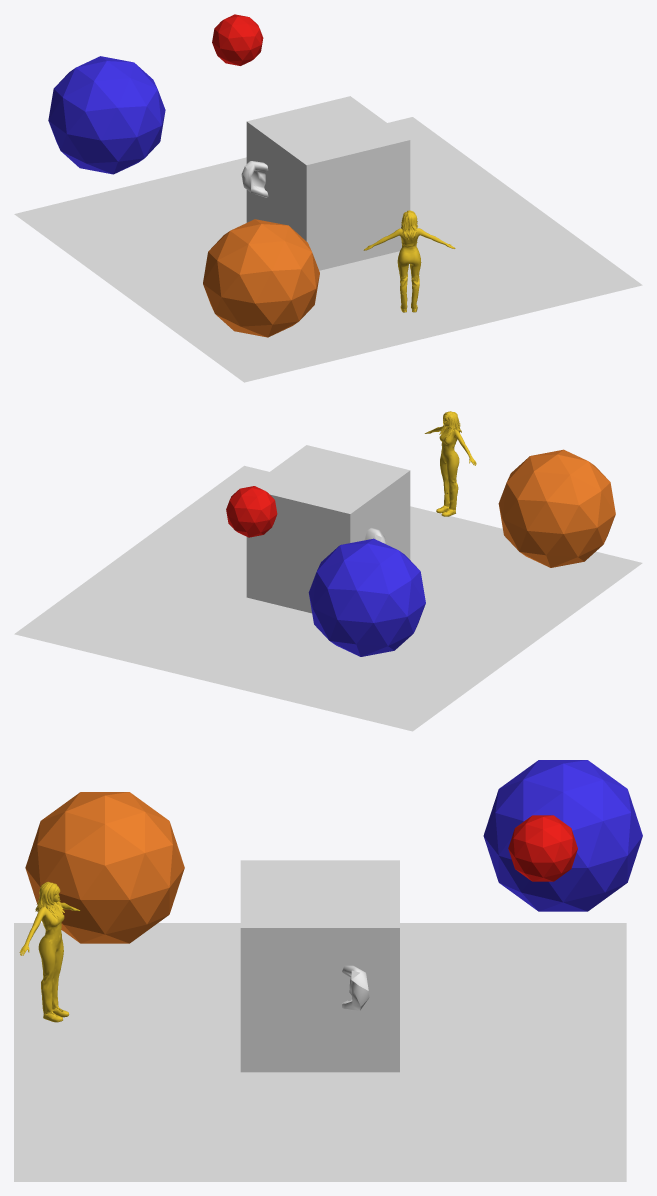
3 views of the same model, one above another, from view 1: azimuth 30°, elevation 25°; view 2: azimuth 150°, elevation 25°; view 3: azimuth 270°, elevation 25° (orthographic). The views are drawn at different scales.
Parts seen in each view (by area): view 1: Plane, Cube, Icosphere.001, Icosphere, female, Icosphere.002, Monkey; view 2: Plane, Cube, Icosphere, Icosphere.001, Icosphere.002, female; view 3: Plane, Cube, Icosphere, Icosphere.001, Icosphere.002, female, Monkey.
Part boxes in pixels (x1=…): Plane: x1=14, y1=117, x2=642, y2=382; Cube: x1=246, y1=96, x2=410, y2=270; Icosphere.001: x1=48, y1=56, x2=165, y2=174; Icosphere: x1=203, y1=219, x2=319, y2=337; female: x1=363, y1=210, x2=455, y2=312; Icosphere.002: x1=212, y1=14, x2=263, y2=65; Monkey: x1=241, y1=161, x2=268, y2=197; Plane: x1=14, y1=465, x2=642, y2=731; Cube: x1=246, y1=445, x2=410, y2=613; Icosphere: x1=498, y1=449, x2=615, y2=567; Icosphere.001: x1=308, y1=538, x2=425, y2=656; Icosphere.002: x1=226, y1=486, x2=277, y2=537; female: x1=424, y1=411, x2=476, y2=516; Plane: x1=14, y1=923, x2=626, y2=1181; Cube: x1=240, y1=860, x2=399, y2=1072; Icosphere: x1=25, y1=792, x2=184, y2=943; Icosphere.001: x1=483, y1=760, x2=642, y2=911; Icosphere.002: x1=508, y1=815, x2=577, y2=881; female: x1=19, y1=881, x2=80, y2=1022; Monkey: x1=342, y1=965, x2=369, y2=1010.
Size of what is drawn, in the model's own units: 768 by 320 by 789.
